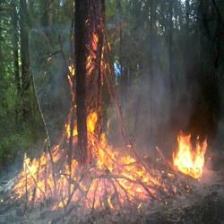fire: (16, 114, 213, 214), (58, 25, 129, 91)
